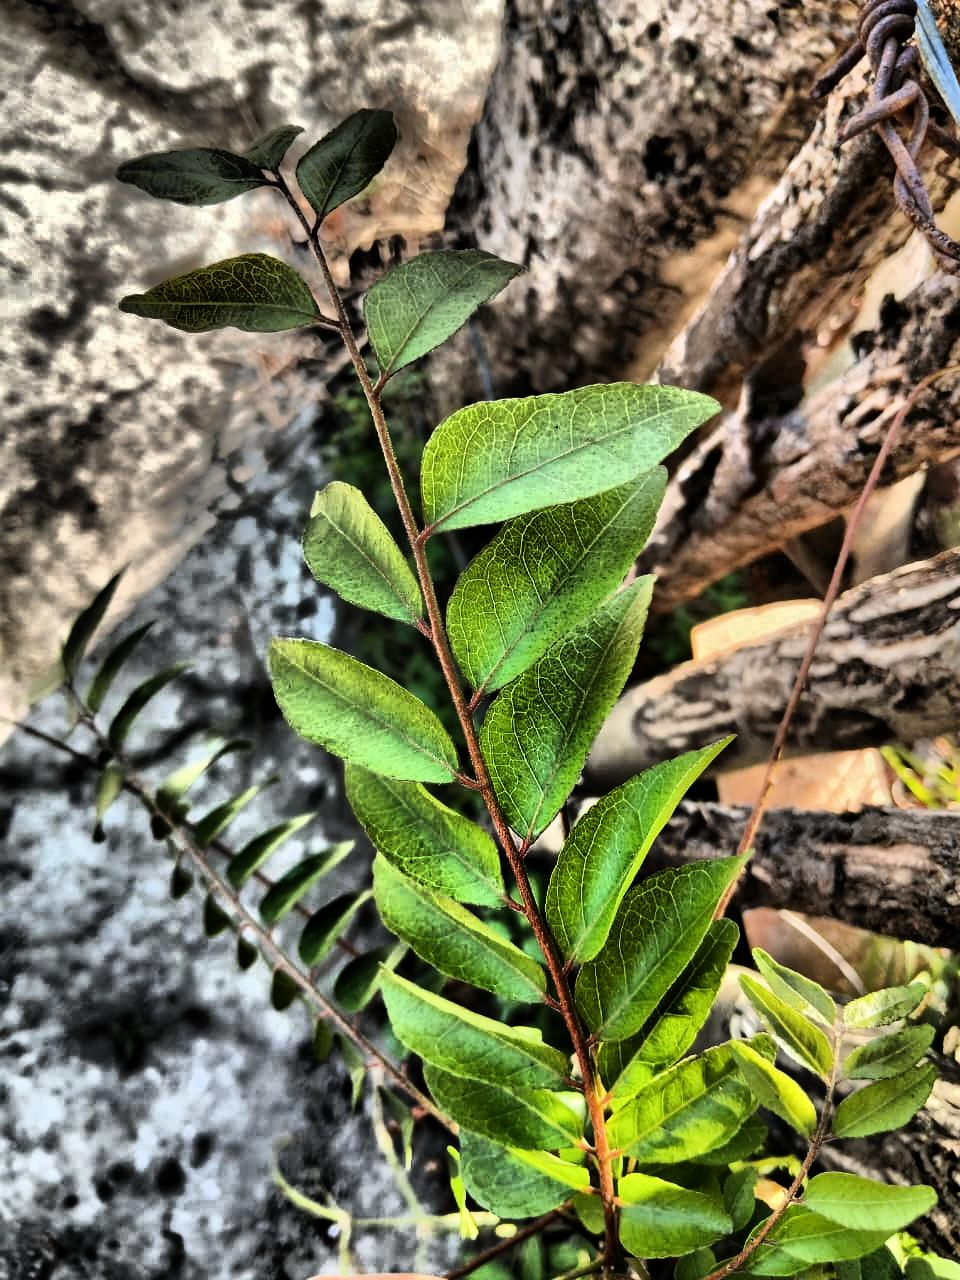daun kari: (118, 112, 934, 1279)
